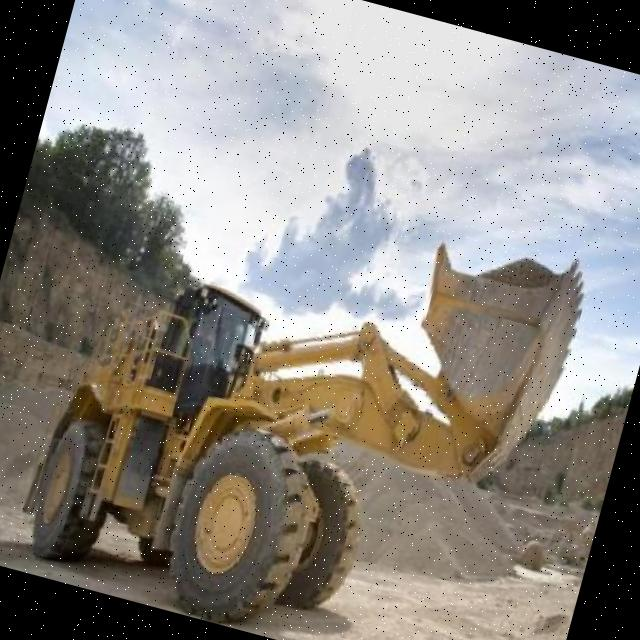Loader: (3, 132, 597, 640)
